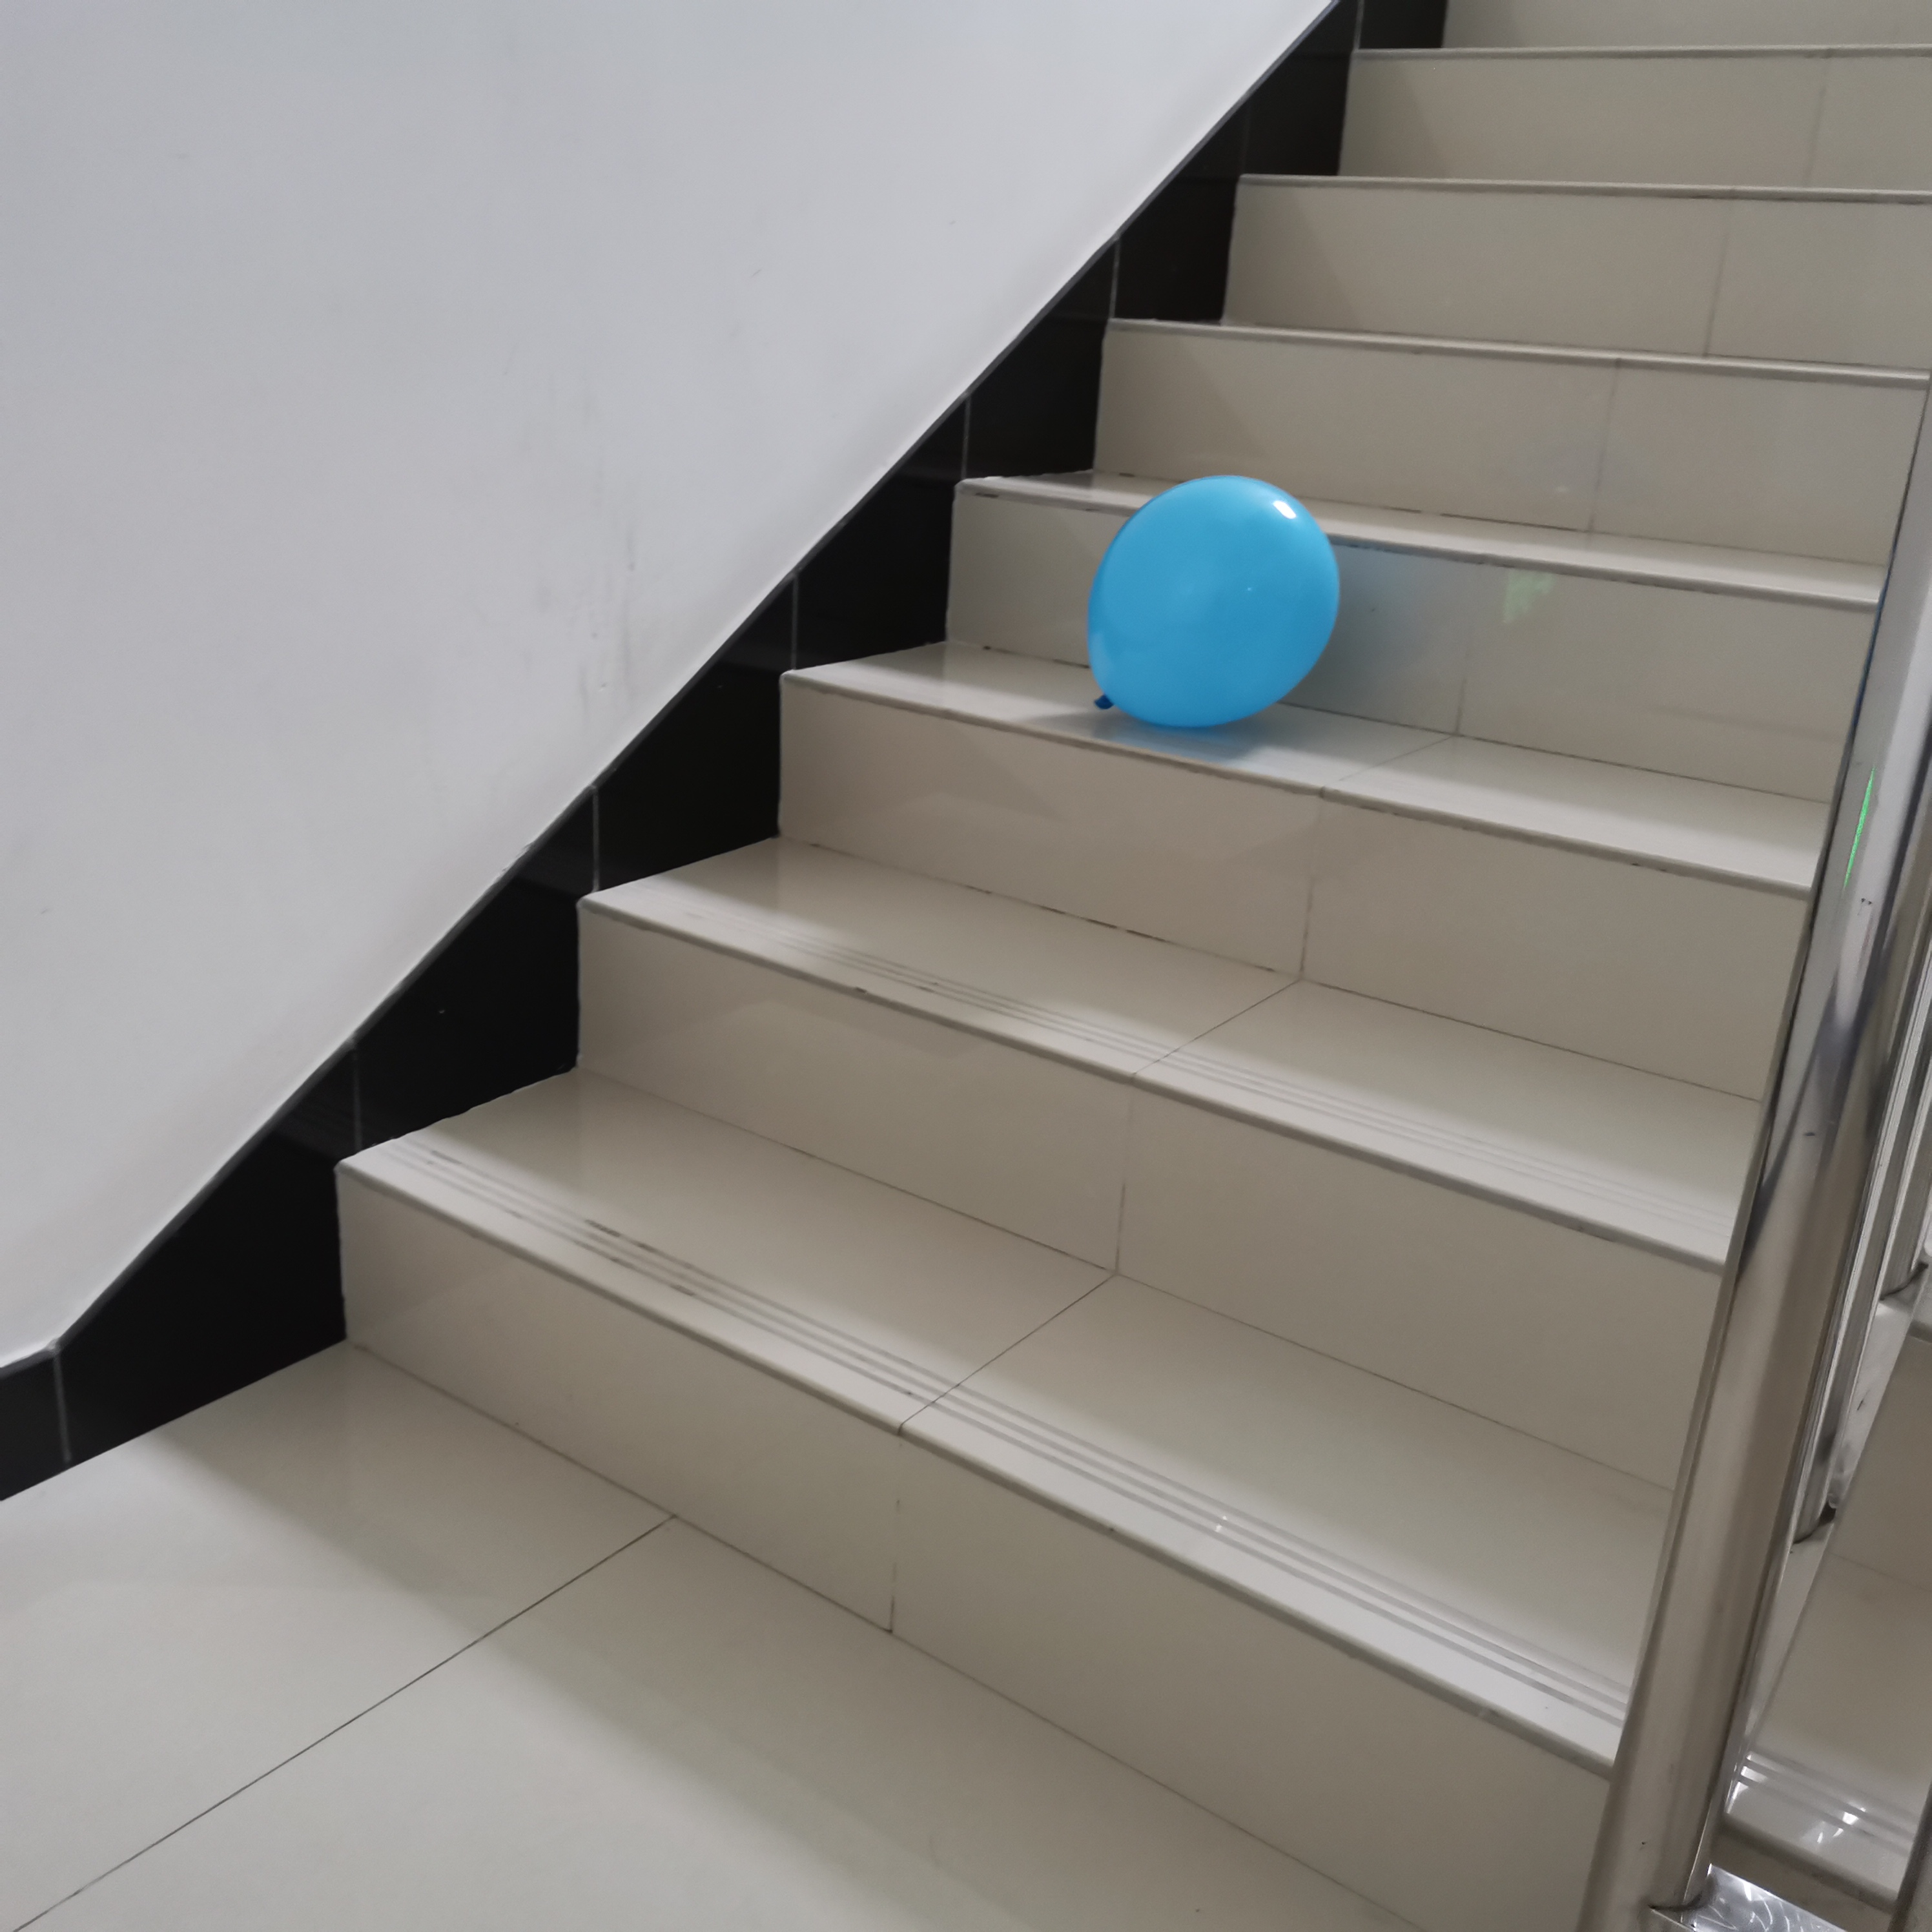balloon: (1085, 474, 1339, 734)
